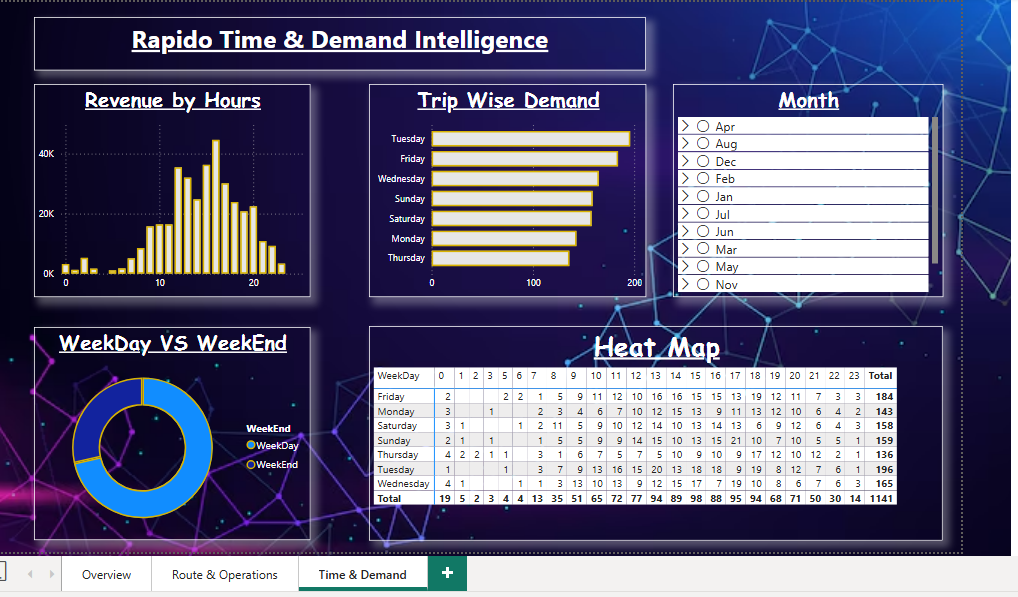

Layout of this report page (visuals, bound fields, positions):
{"tool":"powerbi","page":{"name":"Time & Demand","canvas":[1280,720],"ordinal":2},"visuals":[{"type":"columnChart","title":"Revenue by Hours","fields":{"Category":["Rapido_Dataset.Start_Hour"],"Y":["Rapido_Dataset.Total_Revenue"]},"box":[66.1,107.4,362,279.4],"z":0},{"type":"donutChart","title":"WeekDay  VS WeekEnd","fields":{"Category":["Calender.IsWeekEnd"],"Y":["CountNonNull(Calender.WeekDay)"]},"box":[66.1,425.3,362,279.4],"z":1000},{"type":"barChart","title":"Trip Wise Demand","fields":{"Category":["Calender.WeekDay"],"Y":["Rapido_Dataset.Total_Trip"]},"box":[503.7,107.4,363.4,279.4],"z":2000},{"type":"pivotTable","title":"Heat Map","fields":{"Rows":["Calender.WeekDay"],"Columns":["Rapido_Dataset.Start_Hour"],"Values":["Rapido_Dataset.Total_Trip"]},"box":[503.7,423.9,751.5,280.8],"z":3000},{"type":"listSlicer","fields":{"Values":["Calender.Month","Rapido_Dataset.Category","Rapido_Dataset.Start","Rapido_Dataset.Purpose"]},"box":[901.5,107.4,353.7,279.4],"z":4000},{"type":"textbox","box":[66.1,19.3,801,70.2],"z":5000}]}

Visuals, with their boxes on the page's 1280x720 design canvas (x1, y1, x2, y2). These are canvas units, not pixel positions in the 1018x597 screenshot, which may show the page scaled, cropped or inside an application window:
"Revenue by Hours" columnChart: x1=66 y1=107 x2=428 y2=387
"WeekDay  VS WeekEnd" donutChart: x1=66 y1=425 x2=428 y2=705
"Trip Wise Demand" barChart: x1=504 y1=107 x2=867 y2=387
"Heat Map" pivotTable: x1=504 y1=424 x2=1255 y2=705
listSlicer - Calender.Month x Rapido_Dataset.Category: x1=902 y1=107 x2=1255 y2=387
textbox: x1=66 y1=19 x2=867 y2=90
